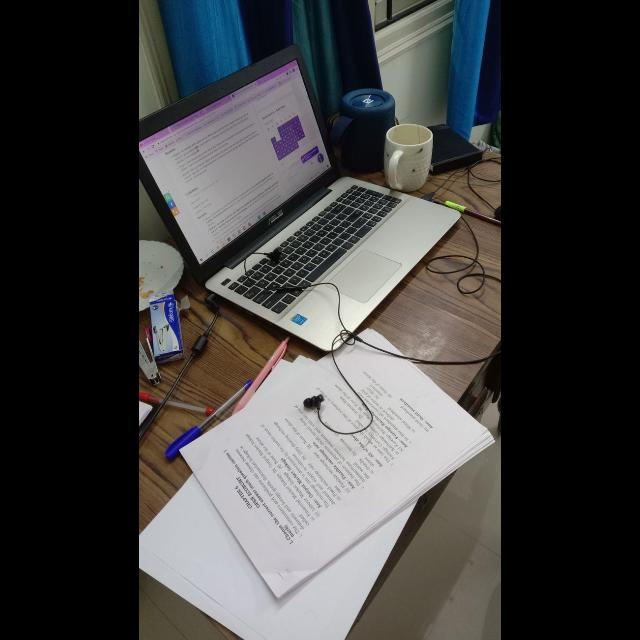laptop: (139, 45, 456, 349)
